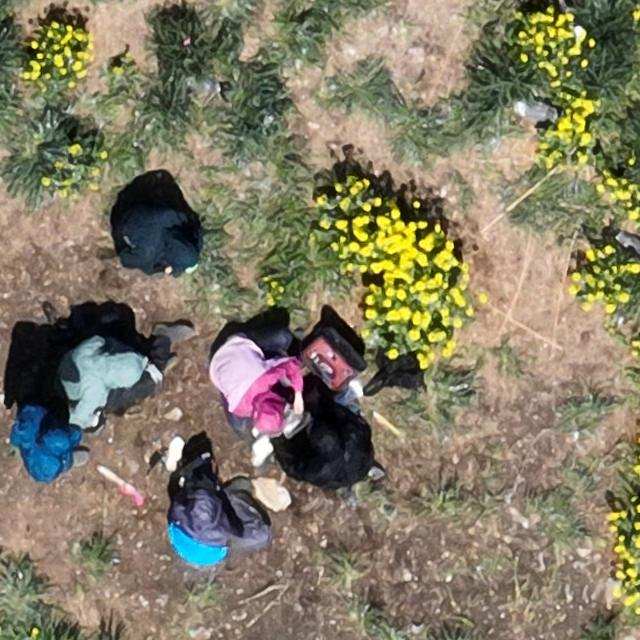umineko: (515, 102, 553, 121)
